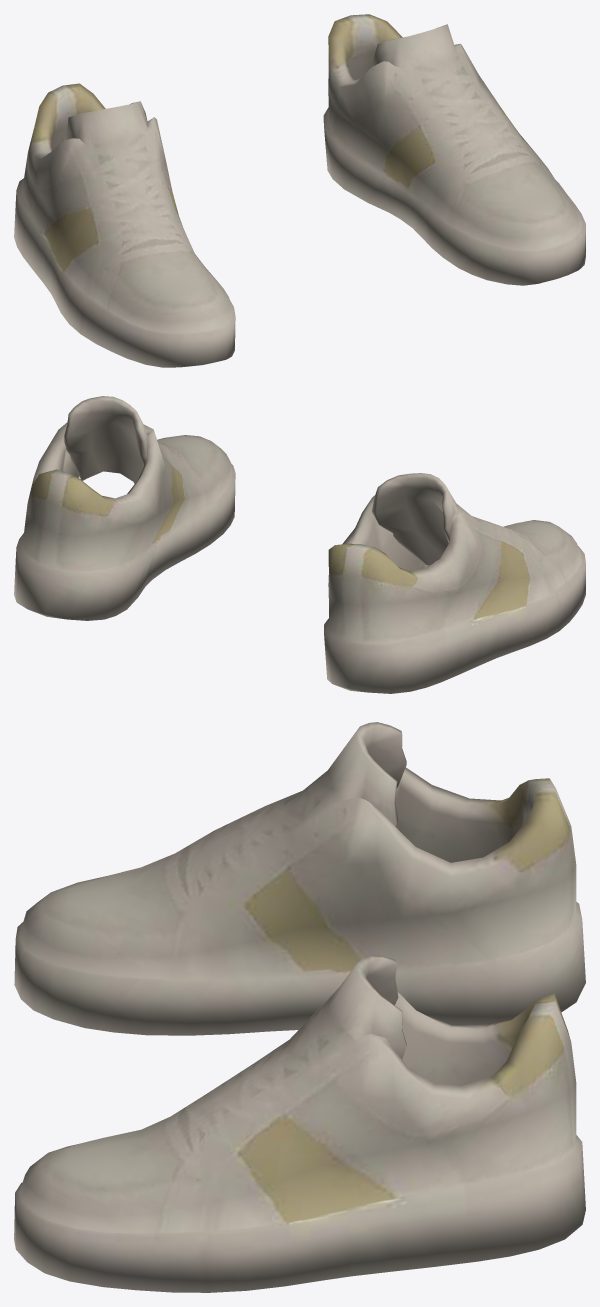
Rendered from shoe4.glb.
3 views of the same model, one above another, from view 1: azimuth 30°, elevation 25°; view 2: azimuth 150°, elevation 25°; view 3: azimuth 270°, elevation 25° (orthographic). The views are drawn at different scales.
Parts seen in each view (by area): view 1: Wolf3D_Outfit_Footwear; view 2: Wolf3D_Outfit_Footwear; view 3: Wolf3D_Outfit_Footwear.
Boxes of the visible parts, bbox=[...] form: Wolf3D_Outfit_Footwear: bbox=[14, 14, 585, 367]; Wolf3D_Outfit_Footwear: bbox=[14, 396, 585, 693]; Wolf3D_Outfit_Footwear: bbox=[14, 722, 585, 1292].
Bounding box in the file's own units: 0.4912 × 0.1743 × 0.3322.
1 material, 1 textured.
